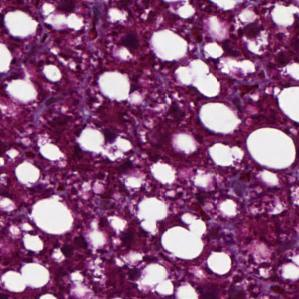ballooning: (245, 125, 295, 171), (80, 123, 135, 161), (161, 213, 205, 260), (30, 192, 76, 234), (175, 59, 225, 96), (0, 261, 51, 294), (196, 101, 241, 134), (152, 26, 186, 62), (99, 68, 133, 103), (5, 8, 40, 39), (7, 76, 40, 104), (15, 162, 43, 189), (208, 250, 234, 276), (151, 162, 178, 186), (40, 142, 67, 165), (42, 63, 66, 83)
